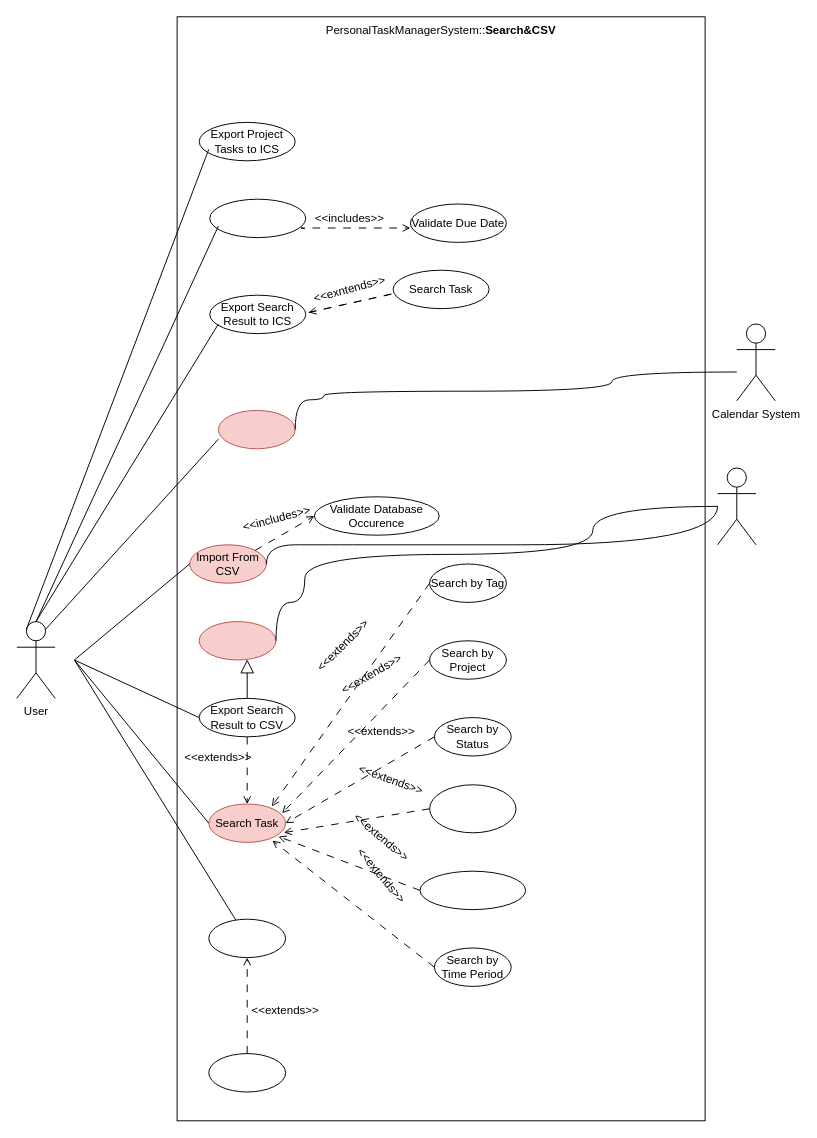
Image size: 817x1138. Some labels were removed from this diagram. The shapes that lost their labels are listed below. From the top down, each one's centre as x and y in pixels, then its label:
At pixel 257 218: "Export Single Task to ICS".
At pixel 256 429: "Export to ICS".
At pixel 736 506: "CSV System".
At pixel 237 640: "Export to CSV".
At pixel 472 808: "Search by day of Week".
At pixel 472 890: "Search by name/description".
At pixel 247 938: "View Open Tasks".
At pixel 247 1072: "View Task Details".
